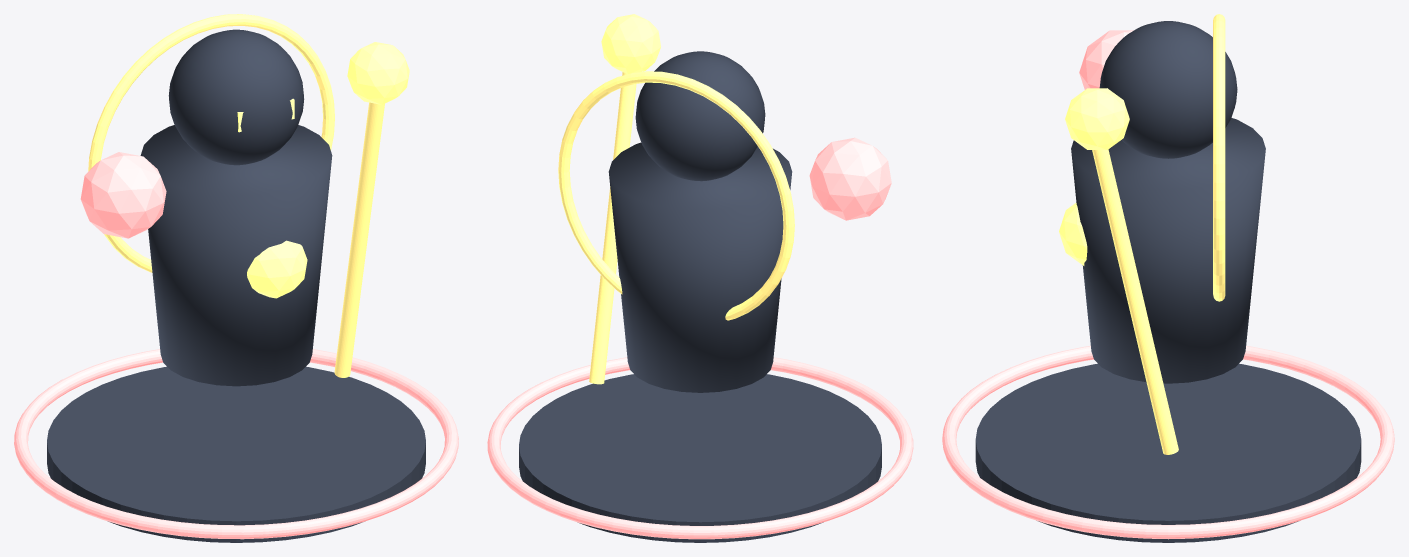
The model's file is ignis.glb.
The picture shows the model from 3 angles, left to right: view 1: azimuth 30°, elevation 25°; view 2: azimuth 150°, elevation 25°; view 3: azimuth 270°, elevation 25°; orthographic projection. The views are drawn at different scales.
Parts seen in each view (by area): view 1: AbilityPedestal, AgentTorso, AgentHead, AbilityAuraRing, Pet_IGNIS, SovereignHalo, SignatureWeapon, WeaponApex, AgentCore; view 2: AbilityPedestal, AgentTorso, AgentHead, AbilityAuraRing, SovereignHalo, Pet_IGNIS, SignatureWeapon, WeaponApex; view 3: AbilityPedestal, AgentTorso, AgentHead, AbilityAuraRing, SignatureWeapon, SovereignHalo, WeaponApex, Pet_IGNIS, AgentCore.
Boxes of the visible parts, box(x1,y1,x2,y2) form: AbilityPedestal: box(47, 366, 425, 542); AgentTorso: box(140, 125, 332, 386); AgentHead: box(168, 29, 304, 165); AbilityAuraRing: box(14, 349, 458, 539); Pet_IGNIS: box(80, 152, 166, 238); SovereignHalo: box(88, 14, 334, 272); SignatureWeapon: box(334, 102, 384, 377); WeaponApex: box(347, 42, 409, 104); AgentCore: box(247, 240, 307, 298); AbilityPedestal: box(519, 374, 881, 542); AgentTorso: box(608, 142, 792, 392); AgentHead: box(635, 51, 765, 181); AbilityAuraRing: box(487, 357, 913, 539); SovereignHalo: box(558, 71, 794, 320); Pet_IGNIS: box(809, 137, 891, 220); SignatureWeapon: box(589, 72, 636, 384); WeaponApex: box(601, 14, 660, 74); AbilityPedestal: box(975, 363, 1361, 542); AgentTorso: box(1071, 118, 1265, 383); AgentHead: box(1099, 21, 1237, 158); AbilityAuraRing: box(942, 345, 1394, 539); SignatureWeapon: box(1092, 149, 1178, 454); SovereignHalo: box(1213, 14, 1225, 301); WeaponApex: box(1065, 88, 1129, 149); Pet_IGNIS: box(1079, 30, 1133, 89); AgentCore: box(1059, 203, 1087, 265).
Bounding box in the file's own units: 2.23 × 2.36 × 2.23.
